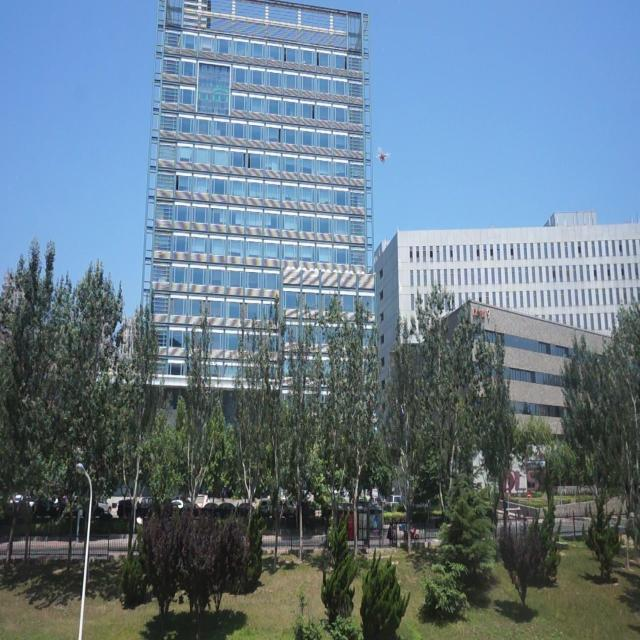drone: (375, 147, 390, 167)
